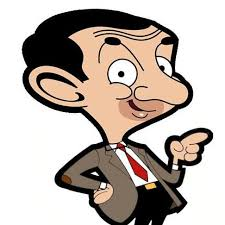mrbean: (21, 8, 215, 225)
